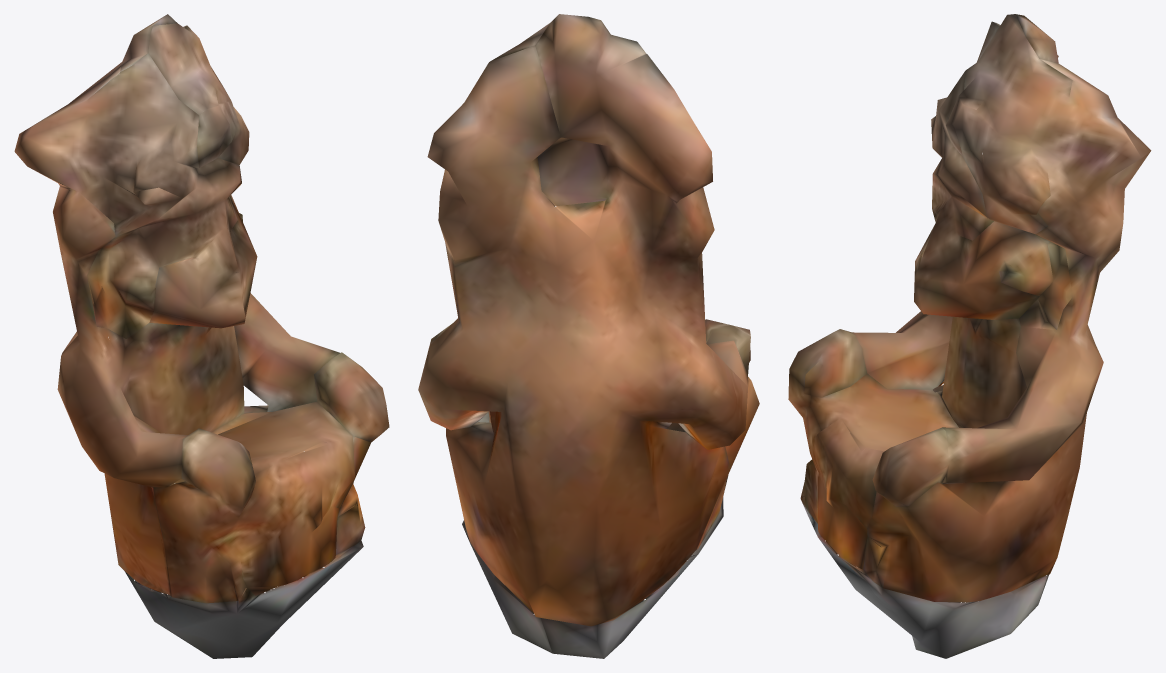
The model's file is maya-statue-big.lod1.glb.
The picture shows the model from 3 angles, left to right: view 1: azimuth 30°, elevation 25°; view 2: azimuth 150°, elevation 25°; view 3: azimuth 270°, elevation 25°; orthographic projection. The views are drawn at different scales.
Parts seen in each view (by area): view 1: Object_4; view 2: Object_4; view 3: Object_4.
Boxes of the visible parts, left/top/right/bottom form: Object_4: left=14, top=14, right=389, bottom=658; Object_4: left=418, top=14, right=759, bottom=658; Object_4: left=788, top=14, right=1151, bottom=658.
Size of the model in its own units: 2.29 by 4.47 by 2.4.
1 material, 1 textured.
